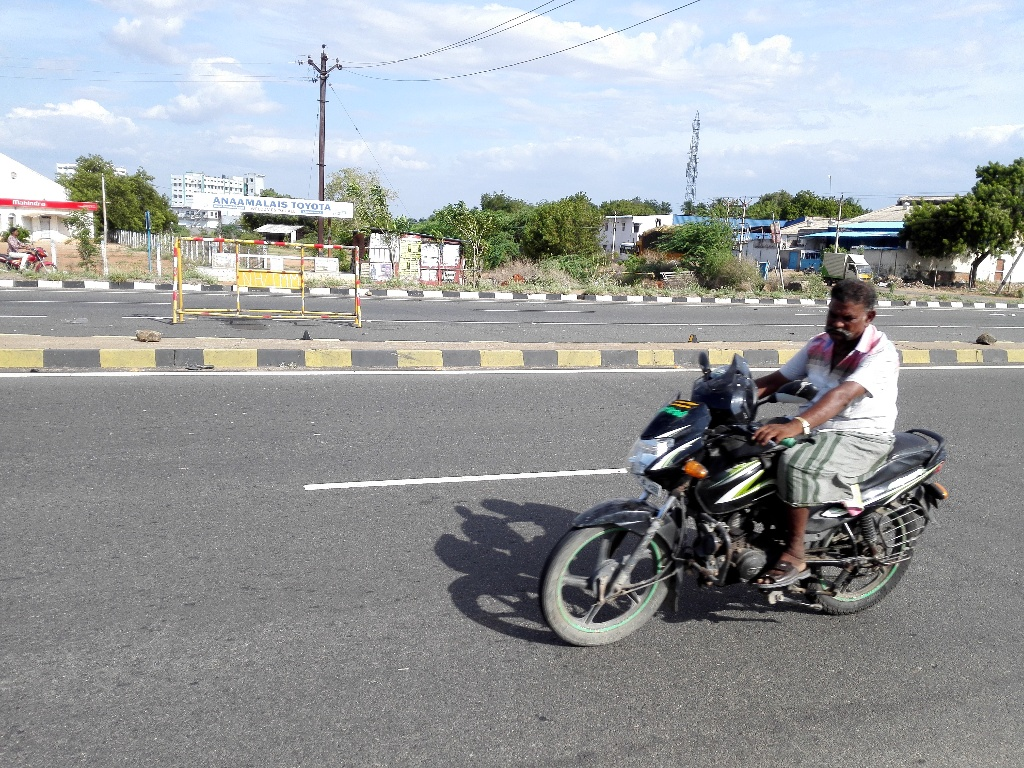biker: (514, 228, 979, 667)
nohelmet: (816, 270, 888, 367)
